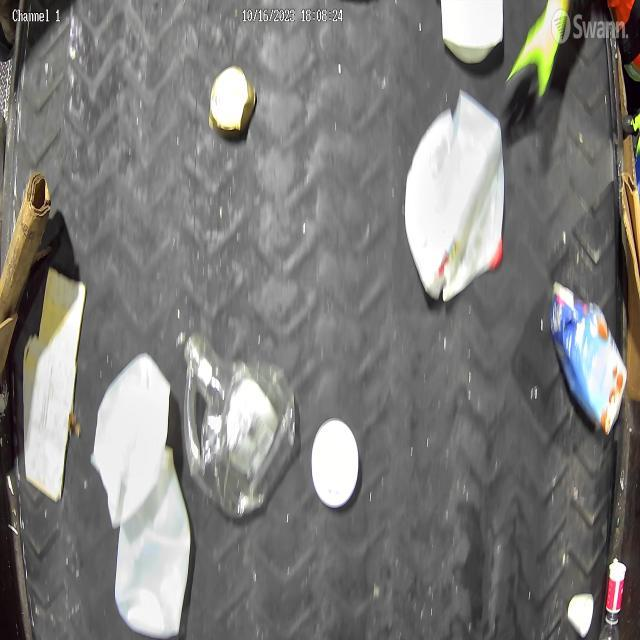can: (207, 61, 259, 142)
milk_jug: (405, 91, 503, 301), (118, 445, 192, 640), (92, 352, 171, 514)
non_white_jug: (550, 278, 628, 437)
